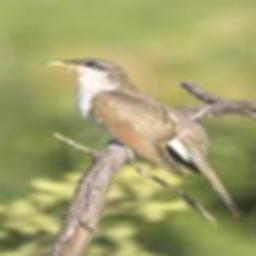Cuckoo: (41, 57, 241, 214)
